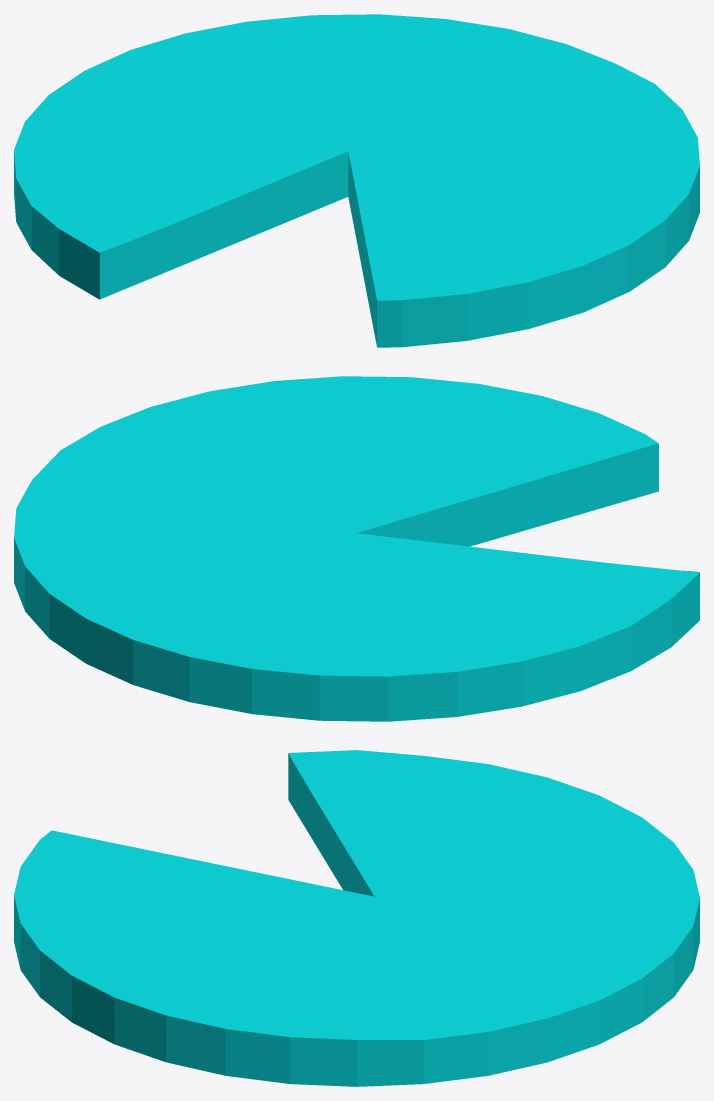
Rendered from CylinderOneSmallSlice.glb.
3 renders of one model, top to bottom at view 1: azimuth 30°, elevation 25°; view 2: azimuth 150°, elevation 25°; view 3: azimuth 270°, elevation 25°, orthographic. The views are drawn at different scales.
Visible parts, largest first — view 1: Cylinder.001; view 2: Cylinder.001; view 3: Cylinder.001.
Boxes of the visible parts, x1=… form: Cylinder.001: x1=14, y1=14, x2=699, y2=347; Cylinder.001: x1=14, y1=376, x2=699, y2=721; Cylinder.001: x1=14, y1=750, x2=699, y2=1086.
Size of the model in its own units: 2 by 0.1508 by 2.
